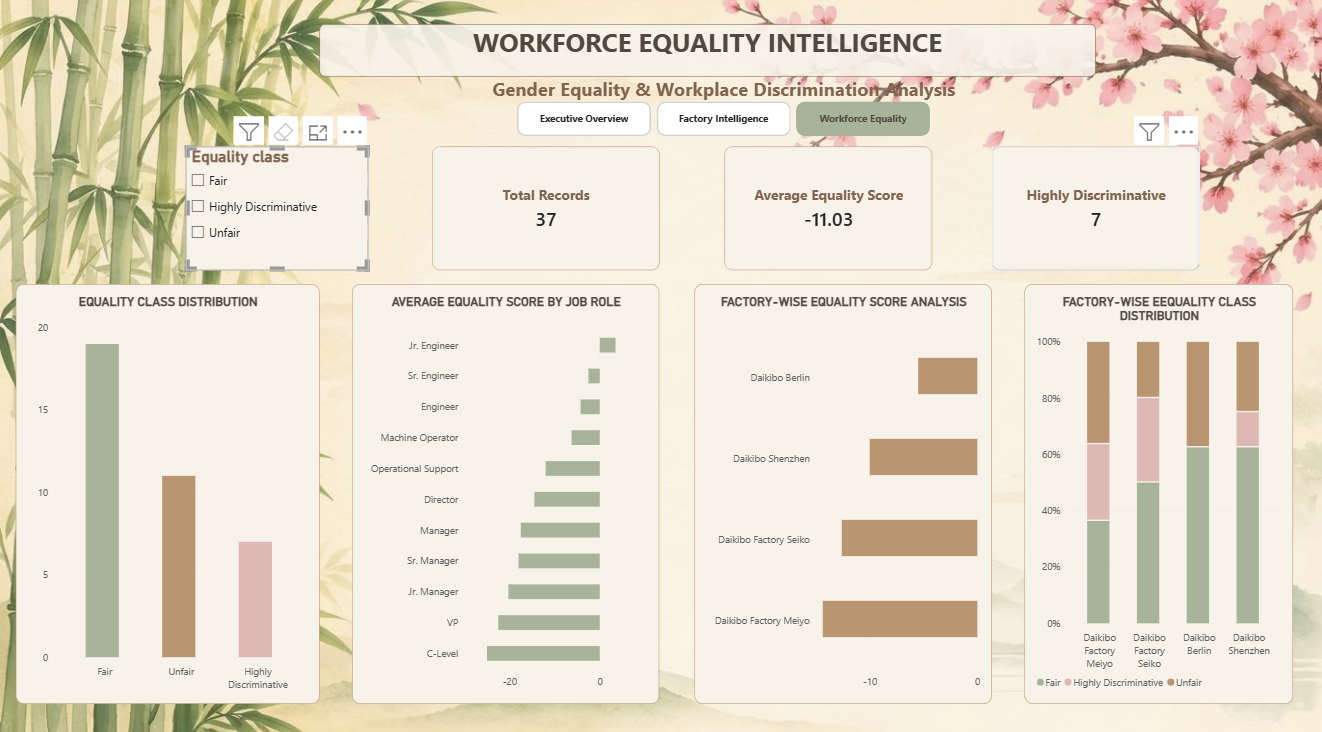

Layout of this report page (visuals, bound fields, positions):
{"tool":"powerbi","page":{"name":"Workforce Equality","canvas":[1920,1080],"ordinal":2},"visuals":[{"type":"textbox","box":[466.9,43.4,1123.8,76],"z":0},{"type":"textbox","box":[629.8,119.4,845.1,56.1],"z":1000},{"type":"cardVisual","fields":{"Data":["Query (3).Average Equality Score"]},"box":[1053.2,220.8,300.4,179.2],"z":2000},{"type":"cardVisual","fields":{"Data":["Query (3).Highly Discriminative"]},"box":[1440.5,220.8,300.4,179.2],"z":3000},{"type":"cardVisual","fields":{"Data":["Query (3).Total Records"]},"box":[629.8,220.8,329.4,179.2],"z":4000},{"type":"slicer","fields":{"Values":["Sheet1.Equality class"]},"box":[273.3,220.8,264.2,179.2],"z":5000},{"type":"clusteredColumnChart","title":"EQUALITY CLASS DISTRIBUTION","fields":{"Category":["Sheet1.Equality class"],"Y":["CountNonNull(Sheet1.Equality class)"]},"box":[27.1,419.8,439.7,608],"z":6000},{"type":"clusteredBarChart","title":"AVERAGE EQUALITY SCORE BY JOB ROLE","fields":{"Category":["Sheet1.Job Role"],"Y":["Avg(Sheet1.Equality Score)"]},"box":[513.9,419.8,445.2,608],"z":7000},{"type":"clusteredBarChart","title":"FACTORY-WISE EQUALITY SCORE ANALYSIS","fields":{"Category":["Sheet1.Factory"],"Y":["Avg(Sheet1.Equality Score)"]},"box":[1009.8,419.8,430.7,608],"z":8000},{"type":"hundredPercentStackedColumnChart","title":"FACTORY-WISE EEQUALITY CLASS DISTRIBUTION","fields":{"Category":["Sheet1.Factory"],"Series":["Sheet1.Equality class"],"Y":["CountNonNull(Sheet1.Equality class)"]},"box":[1487.5,419.8,389.1,608],"z":9000},{"type":"textbox","box":[23.5,112.2,1896.5,68.8],"z":10000},{"type":"pageNavigator","box":[752.8,155.6,600,50],"z":11000}]}

Visuals, with their boxes in screenshot pixels (x1, y1, x2, y2), scaled from the page's 1920x1080 canvas onto the 1322x732 screenshot:
textbox: BBox(321, 29, 1095, 81)
textbox: BBox(434, 81, 1016, 119)
cardVisual - Query (3).Average Equality Score: BBox(725, 150, 932, 271)
cardVisual - Query (3).Highly Discriminative: BBox(992, 150, 1199, 271)
cardVisual - Query (3).Total Records: BBox(434, 150, 660, 271)
slicer - Sheet1.Equality class: BBox(188, 150, 370, 271)
"EQUALITY CLASS DISTRIBUTION" clusteredColumnChart: BBox(19, 285, 321, 697)
"AVERAGE EQUALITY SCORE BY JOB ROLE" clusteredBarChart: BBox(354, 285, 660, 697)
"FACTORY-WISE EQUALITY SCORE ANALYSIS" clusteredBarChart: BBox(695, 285, 992, 697)
"FACTORY-WISE EEQUALITY CLASS DISTRIBUTION" hundredPercentStackedColumnChart: BBox(1024, 285, 1292, 697)
textbox: BBox(16, 76, 1321, 123)
pageNavigator: BBox(518, 105, 931, 139)
